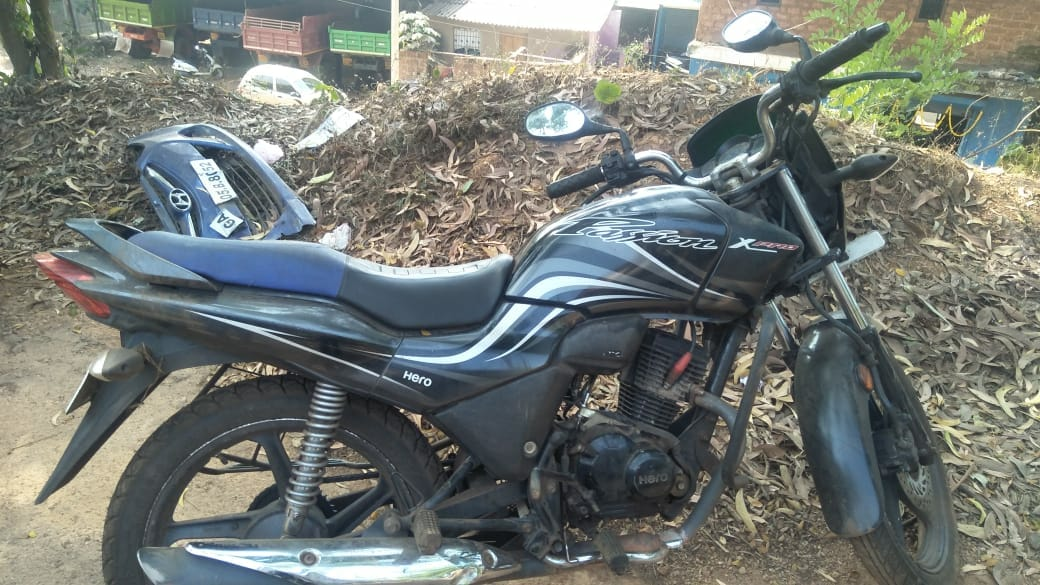bike: (30, 77, 966, 582), (165, 48, 223, 79)
car: (233, 63, 343, 106)
truck: (242, 4, 333, 66), (92, 1, 178, 52), (332, 15, 400, 73), (182, 5, 242, 56)
